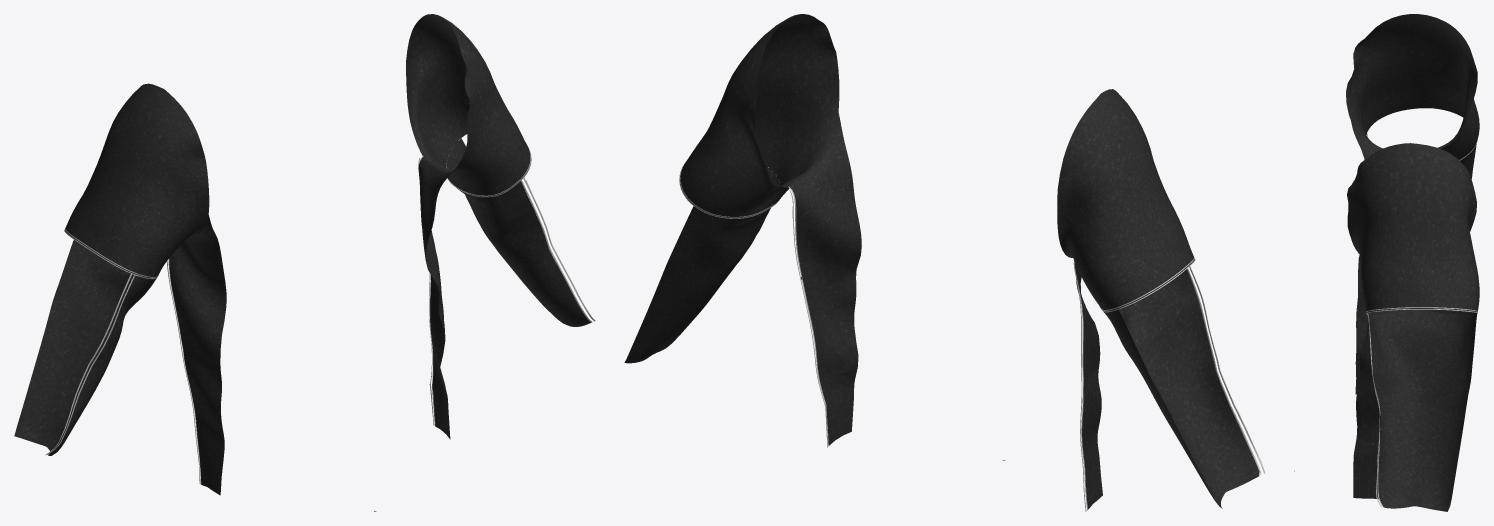
The model's file is Jac_Hands.glb.
3 views of the same model, side by side, from view 1: azimuth 30°, elevation 25°; view 2: azimuth 150°, elevation 25°; view 3: azimuth 270°, elevation 25° (orthographic). The views are drawn at different scales.
Parts seen in each view (by area): view 1: Jac_Hands.001, Jac_Rope_Hands.001; view 2: Jac_Hands.001, Jac_Rope_Hands.001; view 3: Jac_Hands.001, Jac_Rope_Hands.001.
Boxes of the visible parts, x1,y1,x2,y2 form: Jac_Hands.001: [14, 14, 590, 511]; Jac_Rope_Hands.001: [45, 143, 595, 484]; Jac_Hands.001: [624, 14, 1259, 509]; Jac_Rope_Hands.001: [679, 160, 1265, 511]; Jac_Hands.001: [1294, 14, 1479, 511]; Jac_Rope_Hands.001: [1366, 133, 1477, 507].
Size of the model in its own units: 1.52 by 1.09 by 0.473.
Materials: 2 (2 with a texture image).
